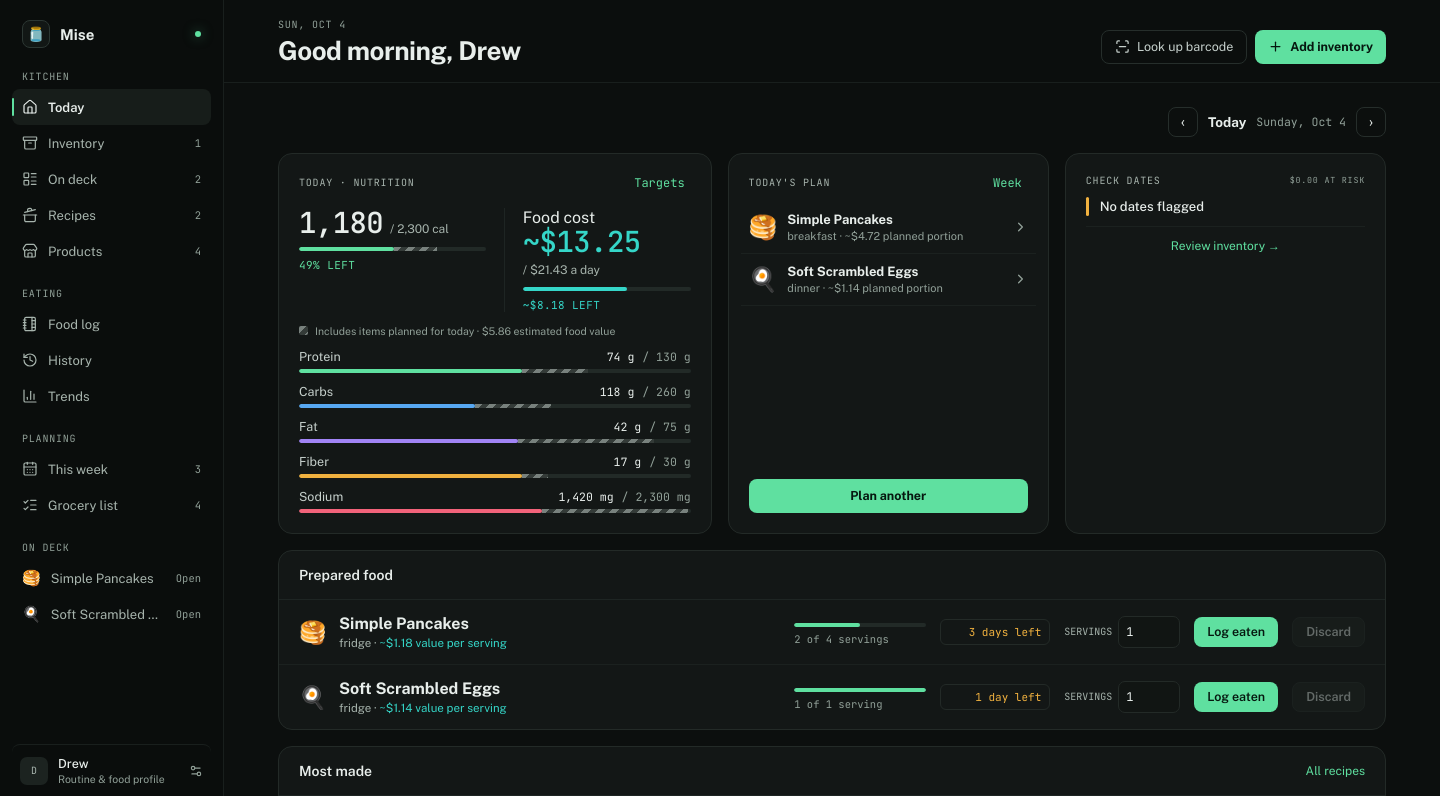
Scenario: keeps compact estimated value in inventory and purchase-price uncertainty in details
Click the button "Inventory 1": {"x": 112, "y": 143} [12,125,211,161]
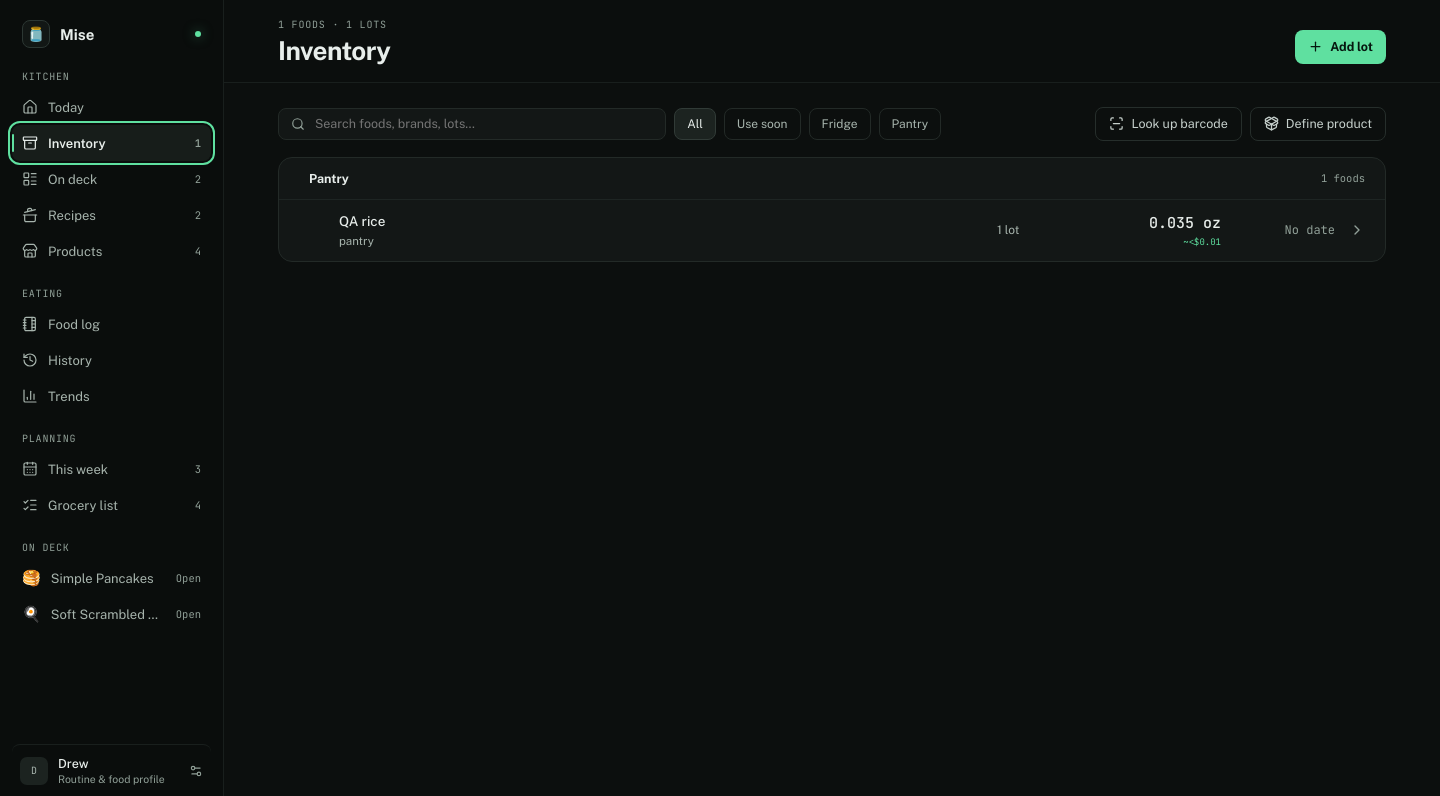
Now the text named "Estimated inventory value: <$0.01" reads "~<$0.01", box [1183,236,1221,248]
Click the button "QA rice": {"x": 362, "y": 221} [279,200,1385,261]
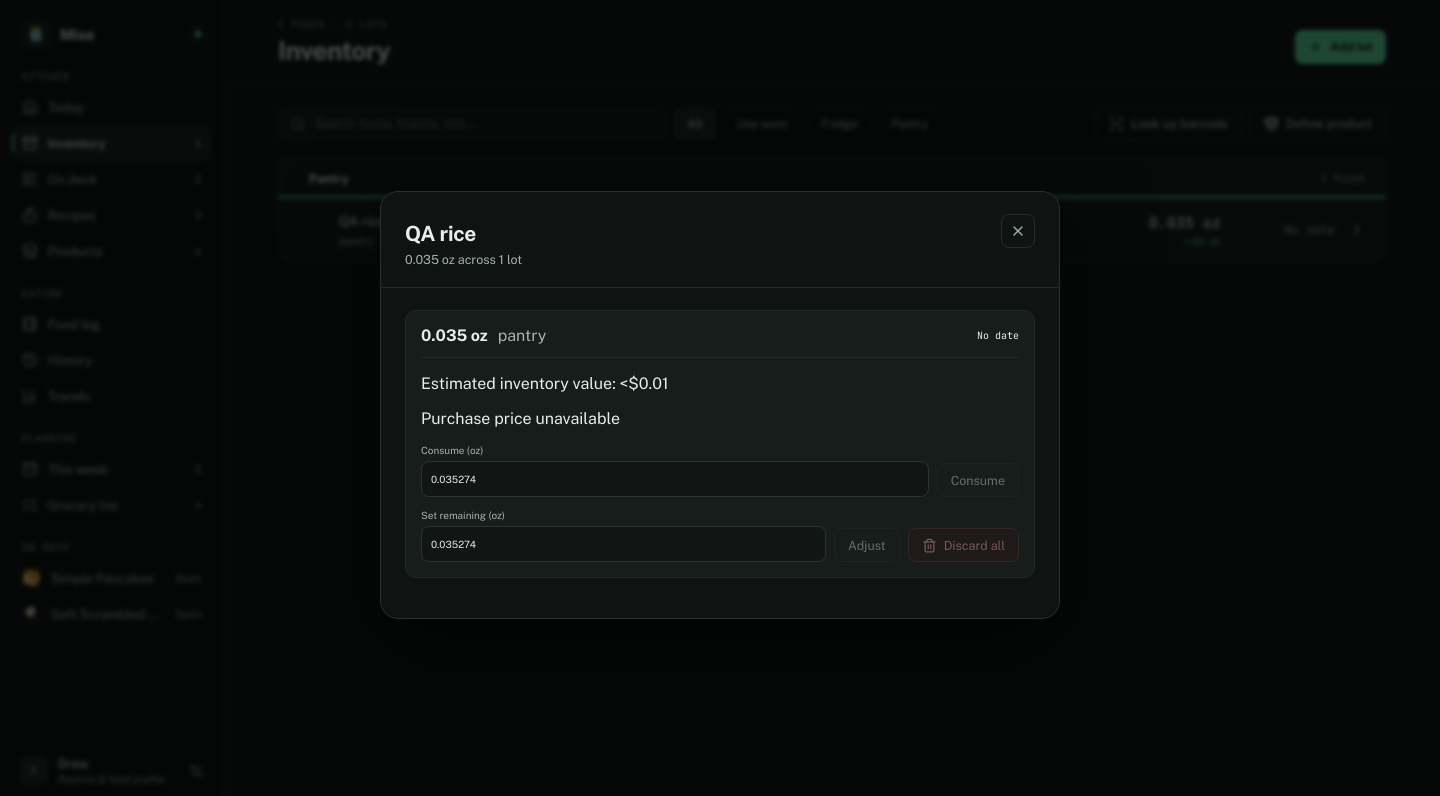
Now the text "Estimated inventory value: <$0.01" is shown, box [421,374,668,393]
Now the text "Purchase price unavailable" is shown, box [421,409,620,428]
